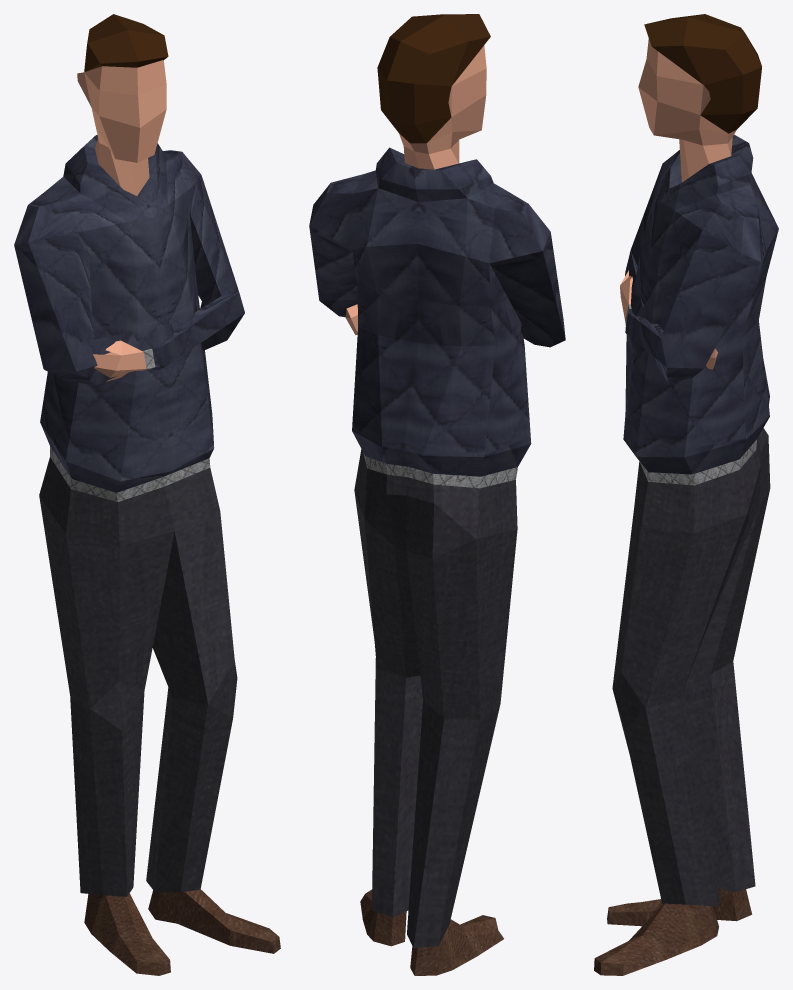
Rendered from AutumnManA.009.glb.
The picture shows the model from 3 angles, left to right: view 1: azimuth 30°, elevation 25°; view 2: azimuth 150°, elevation 25°; view 3: azimuth 270°, elevation 25°; orthographic projection. The views are drawn at different scales.
Visible parts, largest first — view 1: AutumnManA.009; view 2: AutumnManA.009; view 3: AutumnManA.009.
Part boxes in pixels (bbox=[...]): AutumnManA.009: bbox=[14, 14, 280, 975]; AutumnManA.009: bbox=[309, 14, 565, 975]; AutumnManA.009: bbox=[594, 14, 778, 975].
Bounding box in the file's own units: 0.4389 × 1.75 × 0.3238.
1 material, 1 textured.
